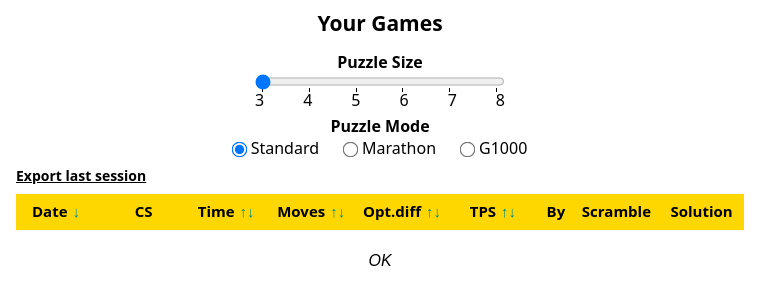
it: GamesTable › sorting › toggles the real time sort direction on repeated desktop clicks
Expected: the element with class "buttons" is shown, [330, 245, 430, 277]
Click the text "↑↓" next to "Time". click: [247, 211]
box: [240, 201, 255, 221]
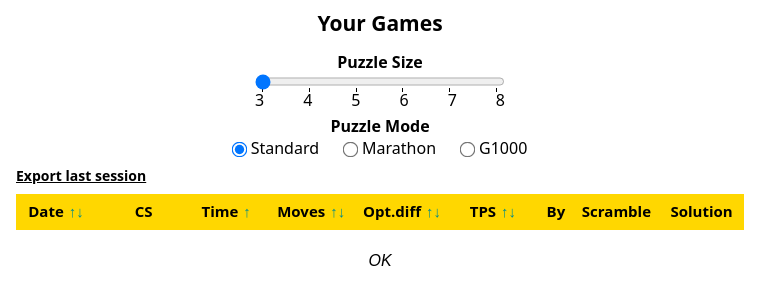
Now the text "↑" is shown
Click the text "↑". click: [247, 211]
box: [243, 201, 251, 221]
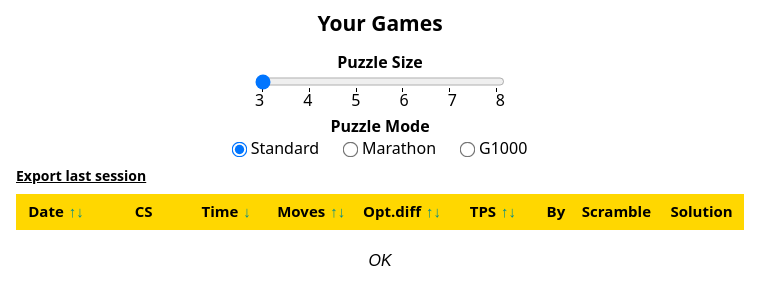
Now the text "↓" is shown, box [243, 201, 251, 221]
